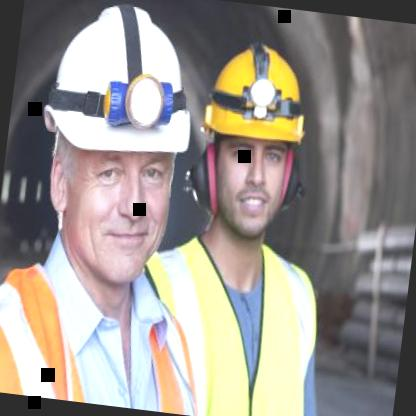helmet: (9, 0, 207, 317), (185, 22, 326, 255)
